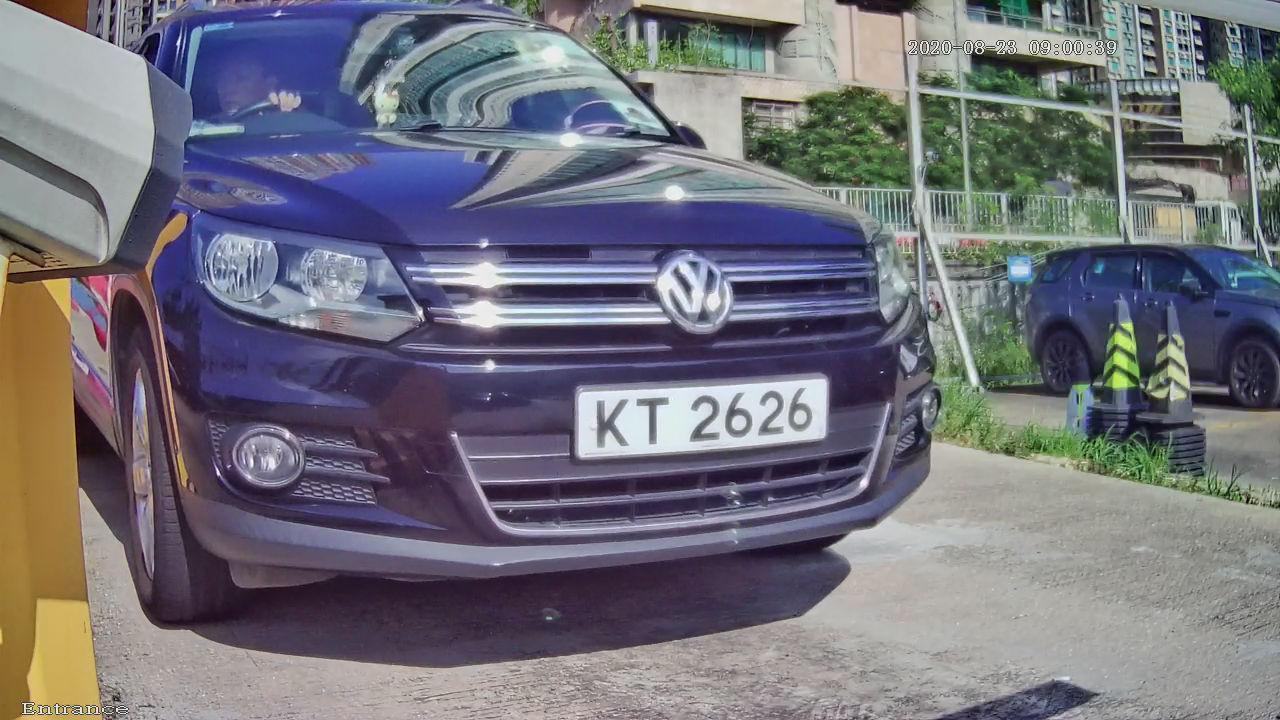Car: (35, 4, 1001, 659)
License Plate: (537, 348, 873, 490)
